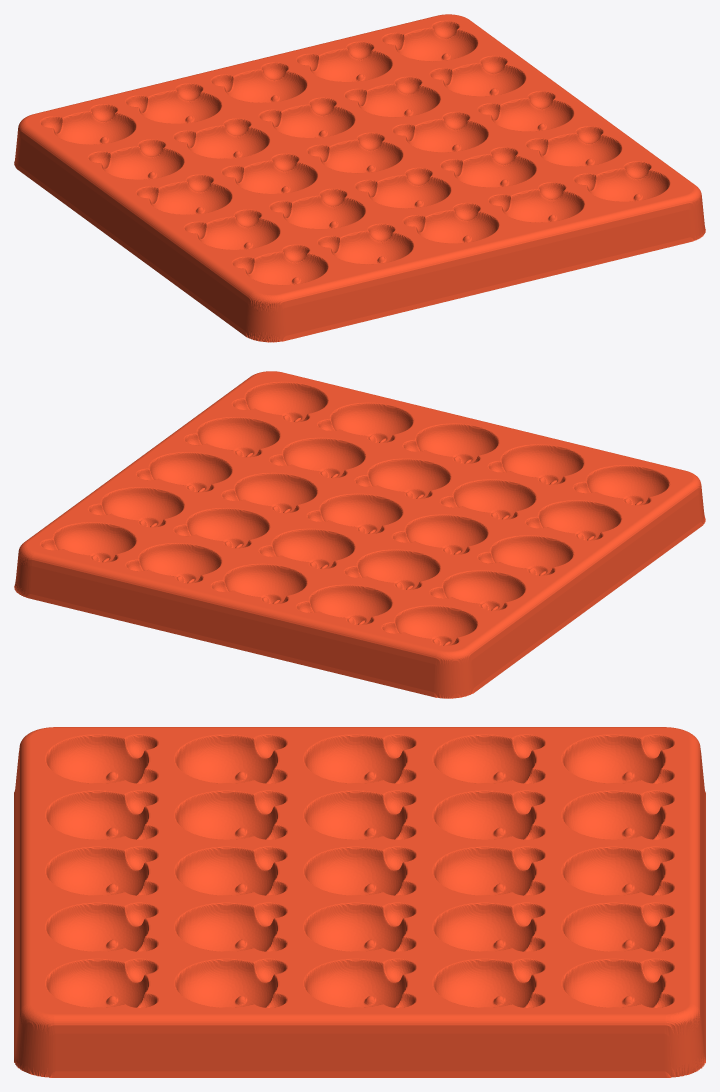
Rendered from mold.glb.
3 views of the same model, one above another, from view 1: azimuth 30°, elevation 25°; view 2: azimuth 150°, elevation 25°; view 3: azimuth 270°, elevation 25° (orthographic). The views are drawn at different scales.
Parts seen in each view (by area): view 1: geometry_0; view 2: geometry_0; view 3: geometry_0.
Boxes of the visible parts, box(x1,y1,x2,y2) form: geometry_0: box(14, 14, 705, 342); geometry_0: box(14, 371, 705, 698); geometry_0: box(14, 727, 705, 1077).
Bounding box in the file's own units: 0.1545 × 0.0136 × 0.1506.
